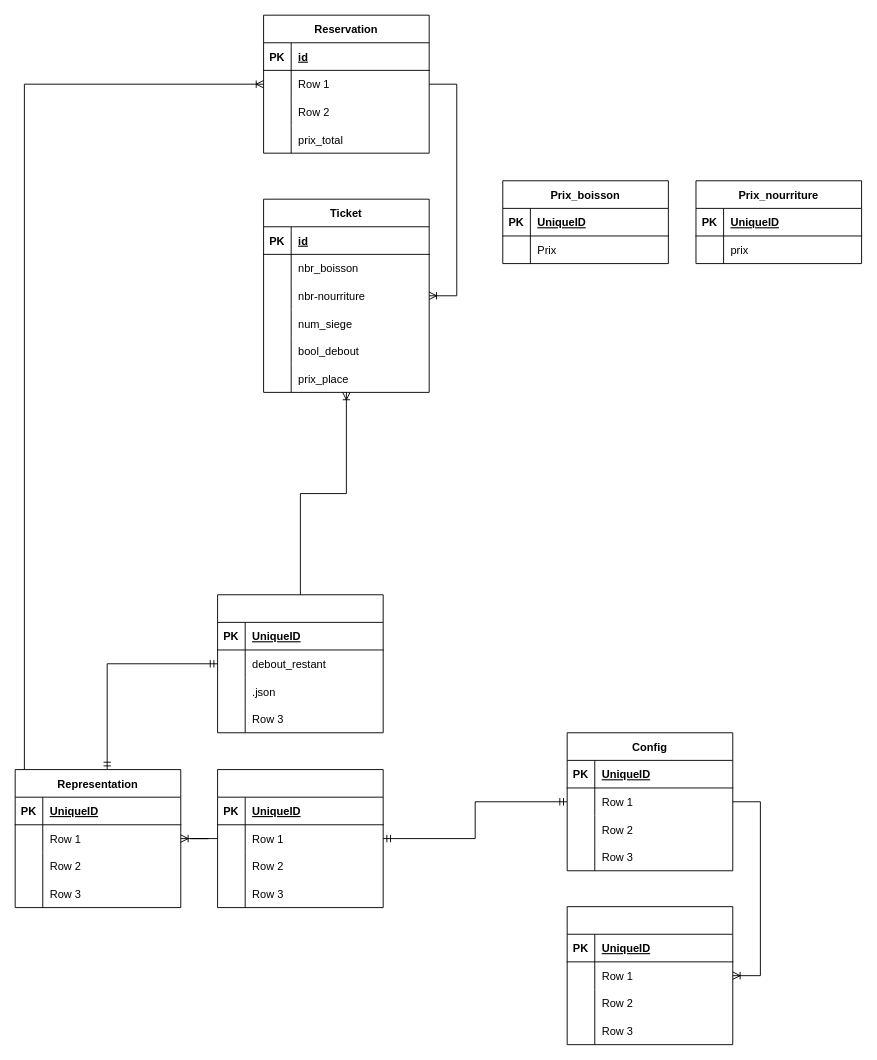
Image size: 877x1060. Some labels were removed from this diagram. Each missing label, with the box of its shape:
Evenement: (217, 769, 383, 908)
Salle: (217, 594, 383, 733)
Type_Siege: (566, 906, 733, 1045)
